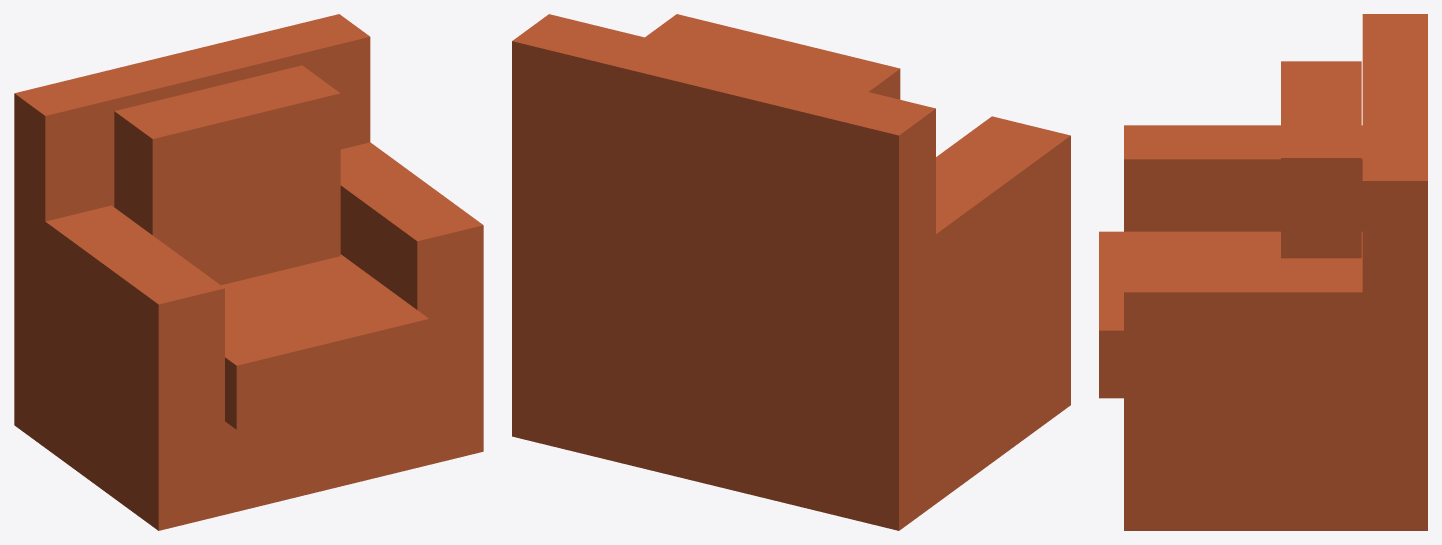
Rendered from sofa.fbx.
3 views of the same model, side by side, from view 1: azimuth 30°, elevation 25°; view 2: azimuth 150°, elevation 25°; view 3: azimuth 270°, elevation 25° (orthographic). The views are drawn at different scales.
Visible parts, largest first — view 1: comfychair; view 2: comfychair; view 3: comfychair.
Part boxes in pixels (<box>): comfychair: <box>14,14,483,530</box>; comfychair: <box>512,14,1070,530</box>; comfychair: <box>1099,14,1427,530</box>.
Size of the model in its own units: 2.88 by 2.82 by 2.4.
